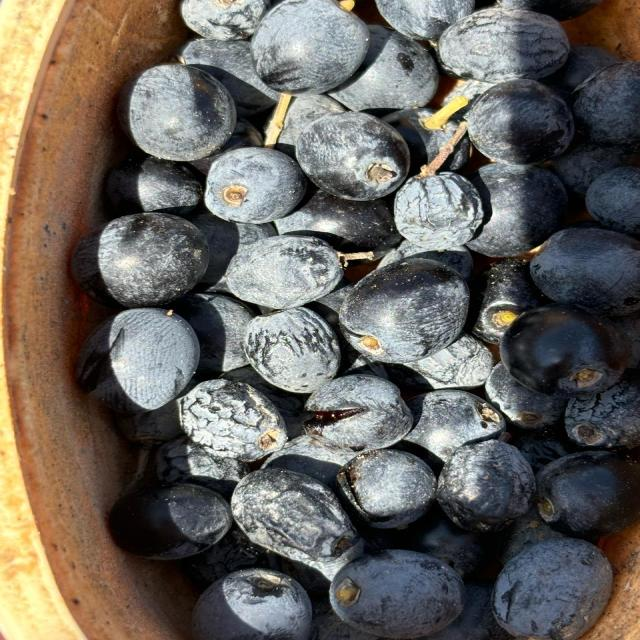Healthy: (339, 257, 469, 367), (71, 212, 209, 308), (77, 308, 200, 414), (493, 536, 613, 640), (330, 550, 464, 640), (500, 304, 630, 396), (251, 0, 370, 94), (121, 64, 235, 162), (296, 112, 410, 200), (529, 226, 639, 316), (535, 450, 639, 540), (467, 79, 574, 164), (110, 484, 232, 558), (193, 568, 312, 640)
Olive Fruit Fly: (305, 374, 413, 452), (337, 448, 437, 528)
